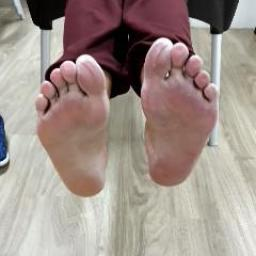Plantar View -Both Feet-: (17, 29, 237, 209)
